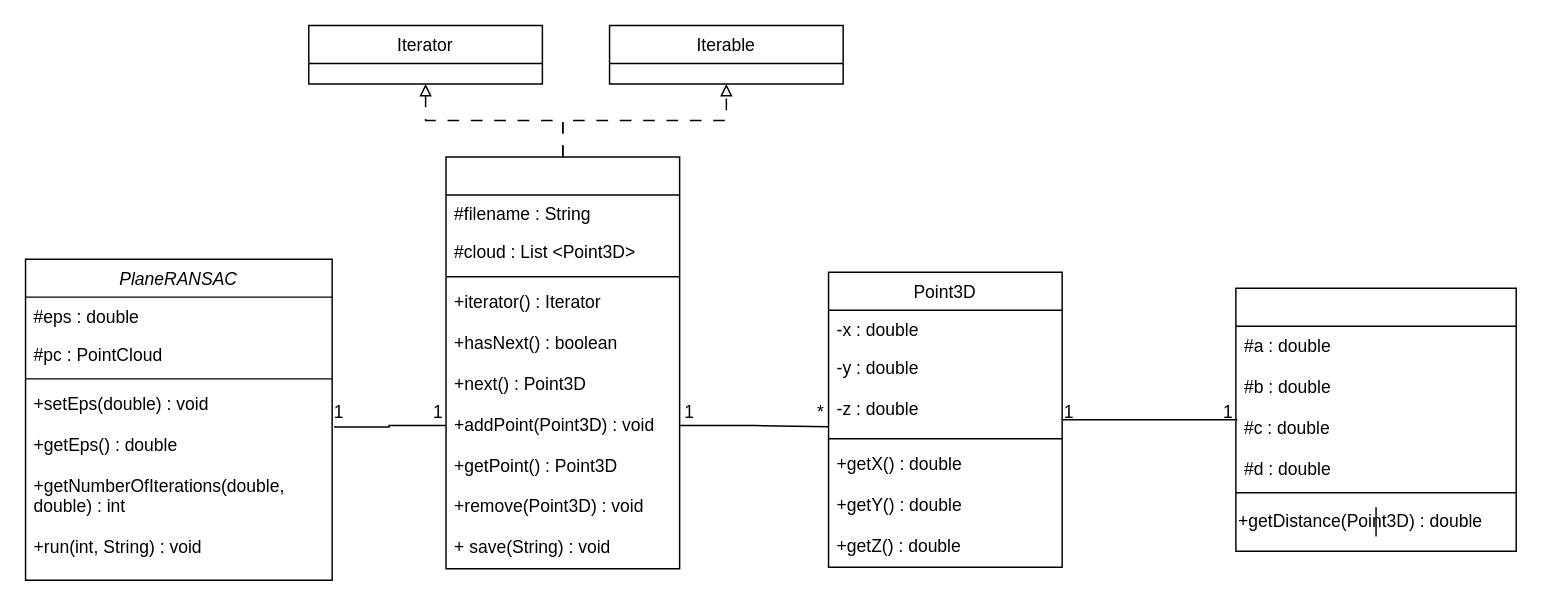
The diagram is 1542 pixels wide and 606 high, and some of its shapes have lost their labels. The box of each missing label's shape, as (x1, y1, x2, y2) in pixels:
Plane3D: (1234, 287, 1516, 551)
PointCloud: (445, 155, 680, 569)
